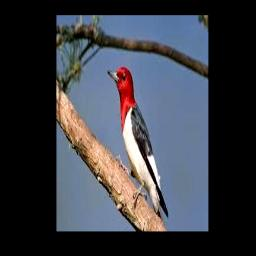Woodpecker: (108, 66, 169, 225)
